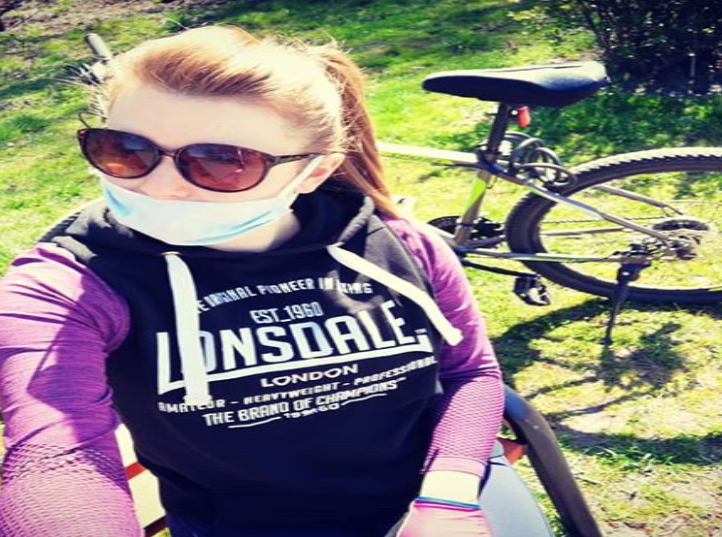mask_weared_incorrect: (69, 30, 359, 249)
